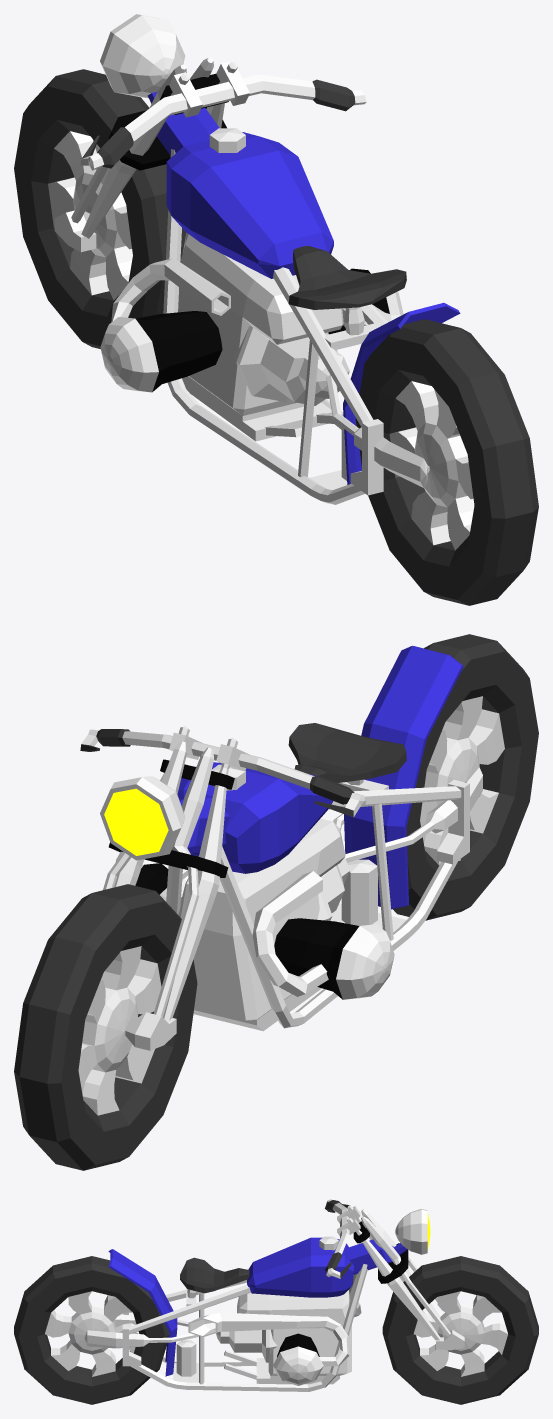
Rendered from low_poly_chopper.glb.
3 views of the same model, one above another, from view 1: azimuth 30°, elevation 25°; view 2: azimuth 150°, elevation 25°; view 3: azimuth 270°, elevation 25° (orthographic). The views are drawn at different scales.
Parts seen in each view (by area): view 1: motorcycle, .b, .f; view 2: motorcycle, .f, .b; view 3: motorcycle, .f, .b.
Boxes of the visible parts, x1,y1,x2,y2 form: motorcycle: (54,14,460,504); .b: (355,319,538,605); .f: (14,69,186,348); motorcycle: (80,645,482,1050); .f: (14,884,197,1170); .b: (393,634,538,920); motorcycle: (84,1199,464,1391); .f: (382,1256,538,1404); .b: (14,1256,169,1404).
Bounding box in the file's own units: 317 × 390 × 968.
